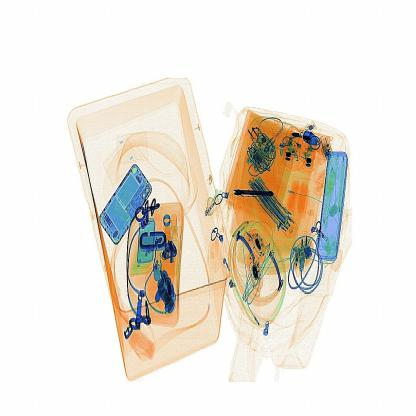knife: (232, 185, 280, 207)
